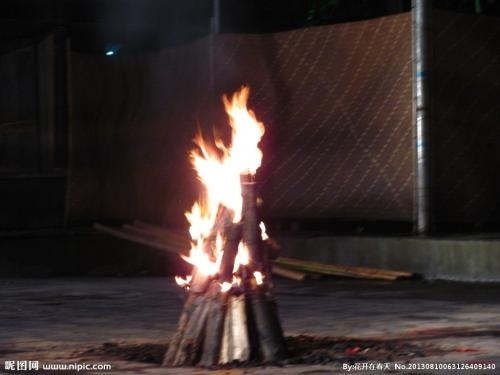fire: (181, 84, 271, 284)
